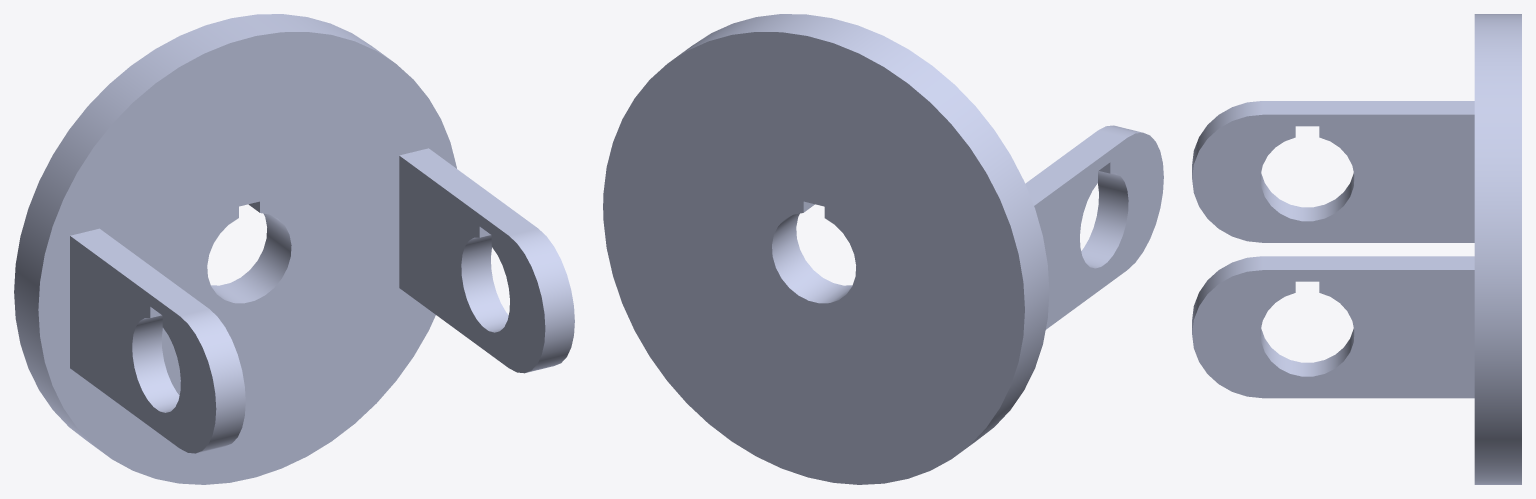
File: Sider_Gear_Holder.glb
The picture shows the model from 3 angles, left to right: view 1: azimuth 30°, elevation 25°; view 2: azimuth 150°, elevation 25°; view 3: azimuth 270°, elevation 25°; orthographic projection. The views are drawn at different scales.
Parts seen in each view (by area): view 1: Sider Gear Holder; view 2: Sider Gear Holder; view 3: Sider Gear Holder.
Boxes of the visible parts, left/top/right/bottom form: Sider Gear Holder: left=14, top=14, right=574, bottom=484; Sider Gear Holder: left=603, top=14, right=1163, bottom=484; Sider Gear Holder: left=1192, top=14, right=1521, bottom=484.
Bounding box in the file's own units: 0.127 × 0.1269 × 0.0889.
